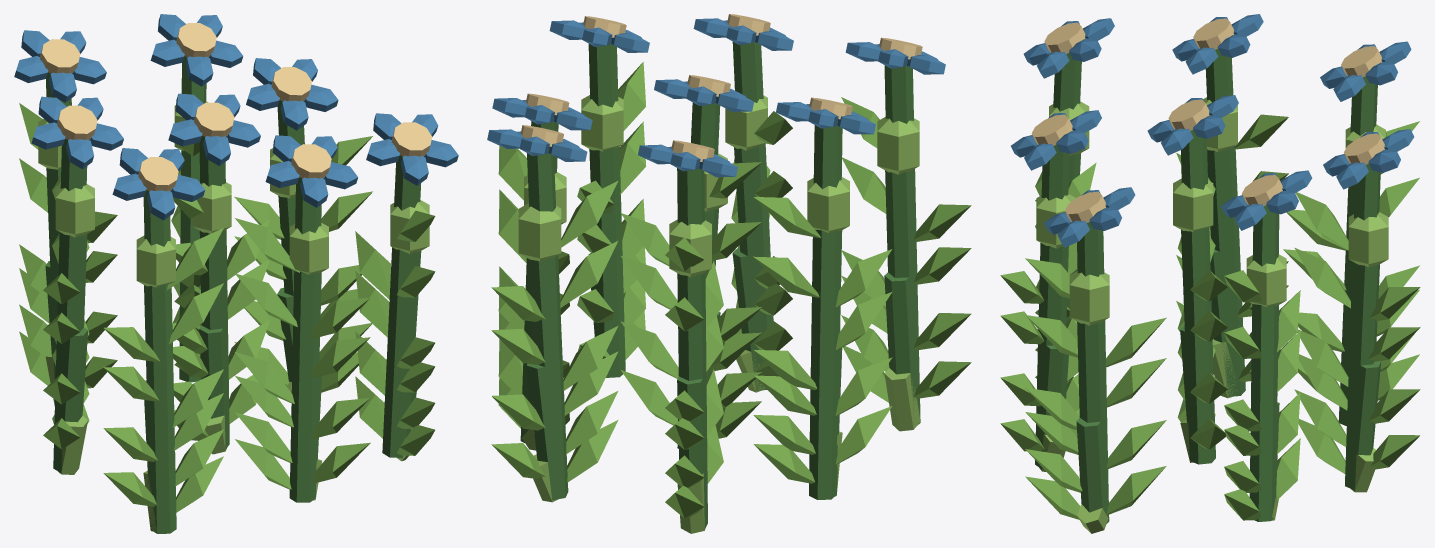
File: flax.glb
The picture shows the model from 3 angles, left to right: view 1: azimuth 30°, elevation 25°; view 2: azimuth 150°, elevation 25°; view 3: azimuth 270°, elevation 25°; orthographic projection. The views are drawn at different scales.
Visible parts, largest first — view 1: Flax_fine_stem.025, Flax_fine_stem.024, Flax_fine_stem.026, Flax_blue_flower.004, Flax_blue_flower.003, Flax_blue_flower.001, Flax_blue_flower.002, Flax_blue_flower.006, Flax_blue_flower.007, Flax_blue_flower.005, Flax_blue_flower, Flax_fine_stem.019 (+74 smaller); view 2: Flax_fine_stem.027, Flax_fine_stem.026, Flax_fine_stem.031, Flax_fine_stem.024, Flax_fine_stem.025, Flax_fine_stem.008, Flax_fine_stem.023, Flax_fine_stem.015, Flax_fine_stem.022, Flax_fine_stem.016, Flax_fine_stem.017, Flax_closed_bud.007 (+83 smaller); view 3: Flax_fine_stem.029, Flax_fine_stem.028, Flax_fine_stem.027, Flax_fine_stem.031, Flax_blue_flower.002, Flax_blue_flower.006, Flax_blue_flower.001, Flax_blue_flower, Flax_blue_flower.004, Flax_blue_flower.007, Flax_blue_flower.005, Flax_blue_flower.003 (+67 smaller).
Boxes of the visible parts, box(x1,y1,x2,y2) form: Flax_fine_stem.025: box(289, 177, 321, 502); Flax_fine_stem.024: box(143, 190, 176, 533); Flax_fine_stem.026: box(382, 155, 420, 457); Flax_blue_flower.004: box(168, 93, 260, 165); Flax_blue_flower.003: box(31, 96, 123, 169); Flax_blue_flower.001: box(265, 135, 358, 207); Flax_blue_flower.002: box(366, 113, 458, 185); Flax_blue_flower.006: box(14, 30, 106, 102); Flax_blue_flower.007: box(150, 14, 243, 86); Flax_blue_flower.005: box(246, 58, 338, 130); Flax_blue_flower: box(112, 148, 205, 220); Flax_fine_stem.019: box(53, 234, 87, 472); Flax_fine_stem.027: box(809, 121, 842, 499); Flax_fine_stem.026: box(588, 39, 625, 377); Flax_fine_stem.031: box(527, 149, 568, 496); Flax_fine_stem.024: box(884, 61, 920, 423); Flax_fine_stem.025: box(732, 38, 773, 328); Flax_fine_stem.008: box(884, 272, 920, 424); Flax_fine_stem.023: box(528, 258, 565, 498); Flax_fine_stem.015: box(526, 363, 565, 500); Flax_fine_stem.022: box(677, 273, 707, 528); Flax_fine_stem.016: box(885, 170, 910, 277); Flax_fine_stem.017: box(734, 147, 766, 389); Flax_closed_bud.007: box(518, 203, 561, 261); Flax_fine_stem.029: box(1249, 205, 1279, 521); Flax_fine_stem.028: box(1181, 130, 1215, 464); Flax_fine_stem.027: box(1205, 49, 1245, 396); Flax_fine_stem.031: box(1345, 164, 1380, 490); Flax_blue_flower.002: box(1044, 187, 1135, 247); Flax_blue_flower.006: box(1320, 41, 1411, 101); Flax_blue_flower.001: box(1011, 110, 1101, 170); Flax_blue_flower: box(1023, 18, 1114, 78); Flax_blue_flower.004: box(1147, 95, 1238, 155); Flax_blue_flower.007: box(1323, 129, 1414, 189); Flax_blue_flower.005: box(1221, 170, 1312, 230); Flax_blue_flower.003: box(1172, 14, 1263, 74).
Size of the model in its own units: 0.7115 by 0.7049 by 0.7076.
